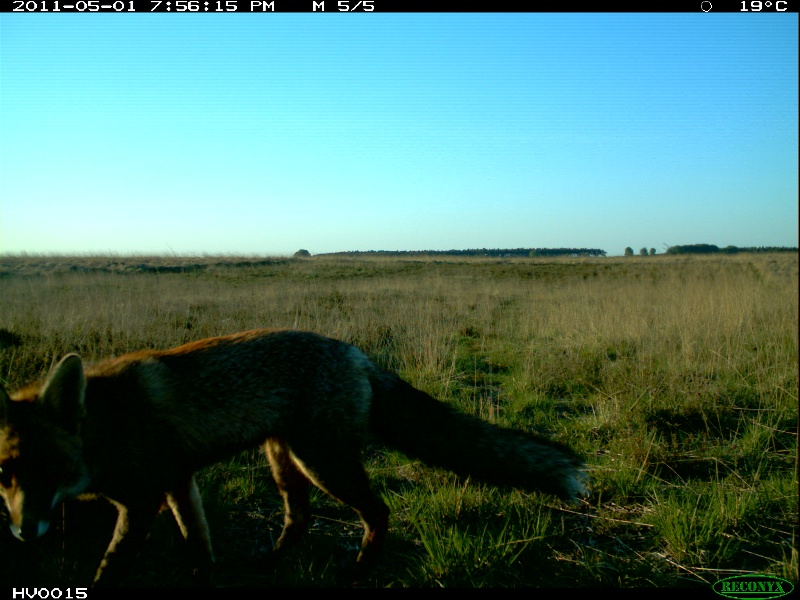fox: (1, 322, 594, 570)
